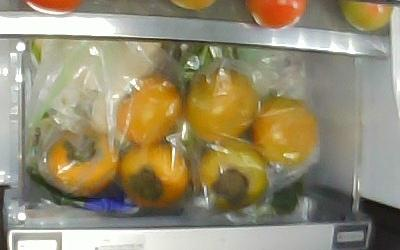persimmon_vinyl: (44, 127, 118, 199), (184, 70, 258, 140), (194, 142, 267, 211), (117, 141, 190, 207), (255, 98, 320, 171), (115, 76, 182, 145)
